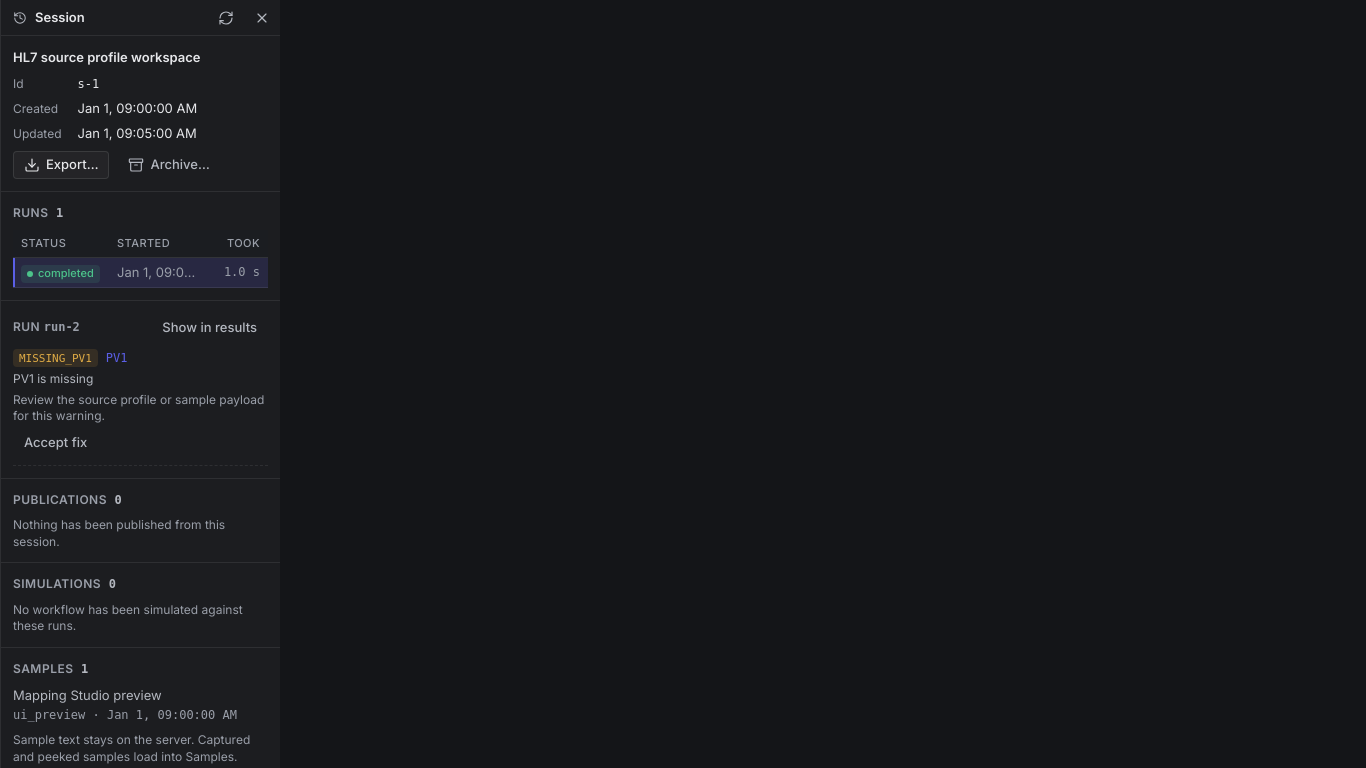
Test: SessionSidebar › exports without raw payloads, naming the missing role, and downloads the JSON
This screenshot has width=1366, height=768.
Click the button with test id "hl7-session-export" at (61, 165), box [13,151,110,179]
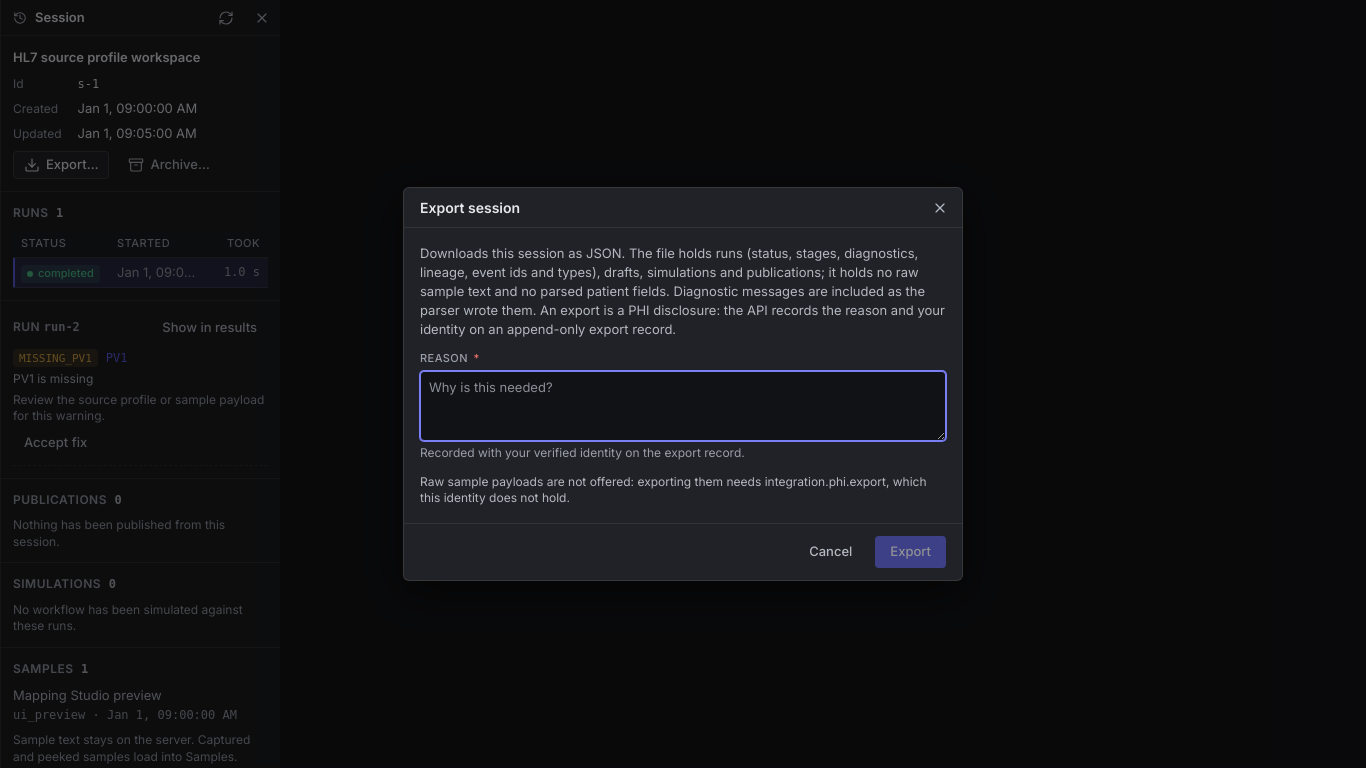
Expected: the text with test id "session-export-phi-missing" shows "needs integration.phi.export, which this identity does not hold", [420,474,926,505]
Expected: the dialog with test id "hl7-session-export-dialog" shows "no raw sample text and no parsed patient fields", [420,245,945,337]
Expected: the button "Export" is disabled, [875,536,946,568]
Type "audit: quarterly review" into the text box at (683, 406), box [420,371,946,441]
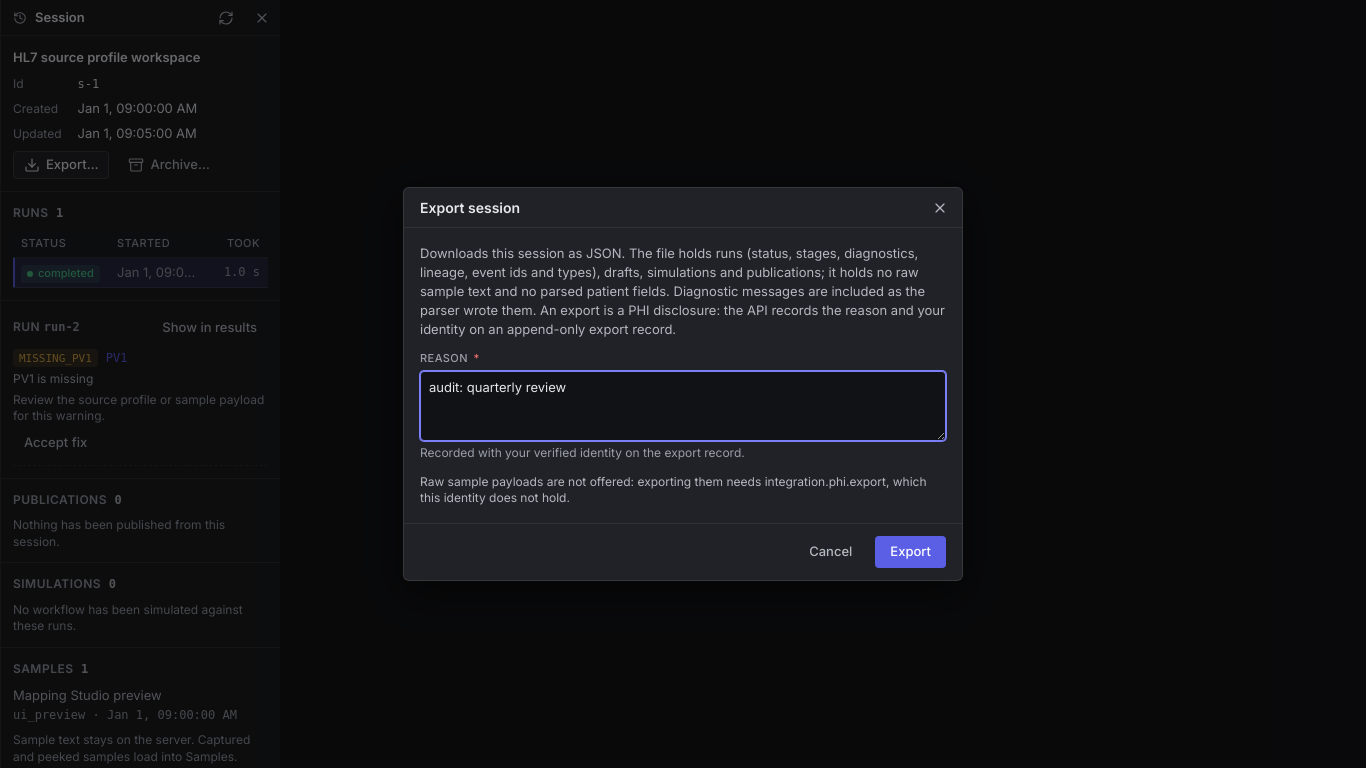
Click the button "Export" at (911, 552), box [875,536,946,568]
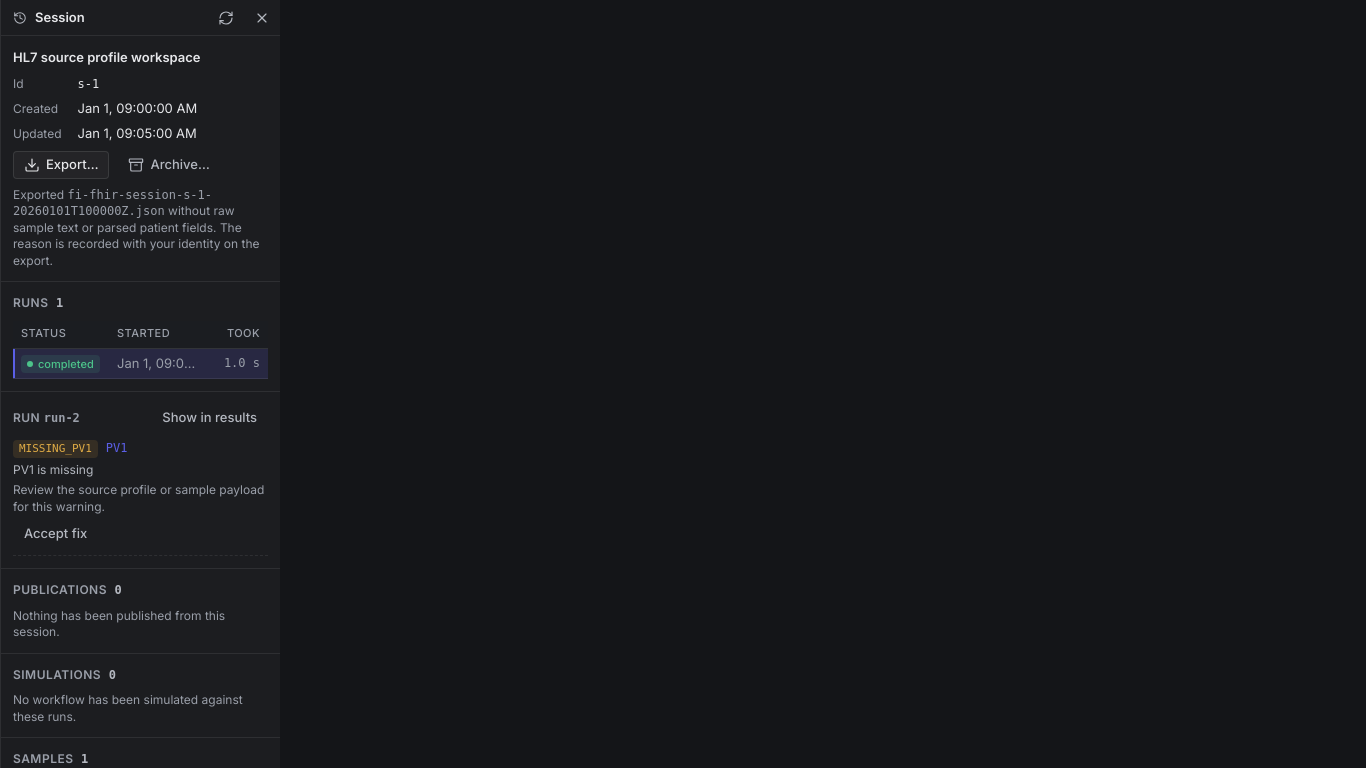
Expected: the dialog with test id "hl7-session-export-dialog" is gone
Expected: the message with test id "hl7-session-export-done" shows "fi-fhir-session-s-1-20260101T100000Z.json", [13,188,212,218]
